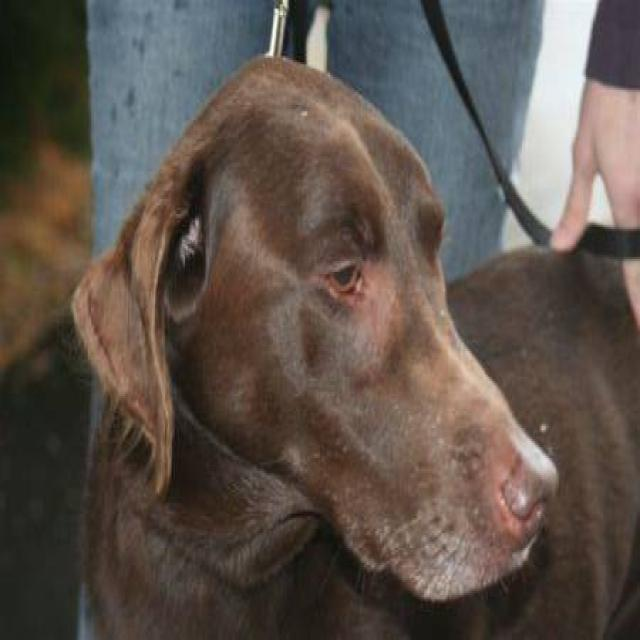dog: (67, 51, 638, 638)
